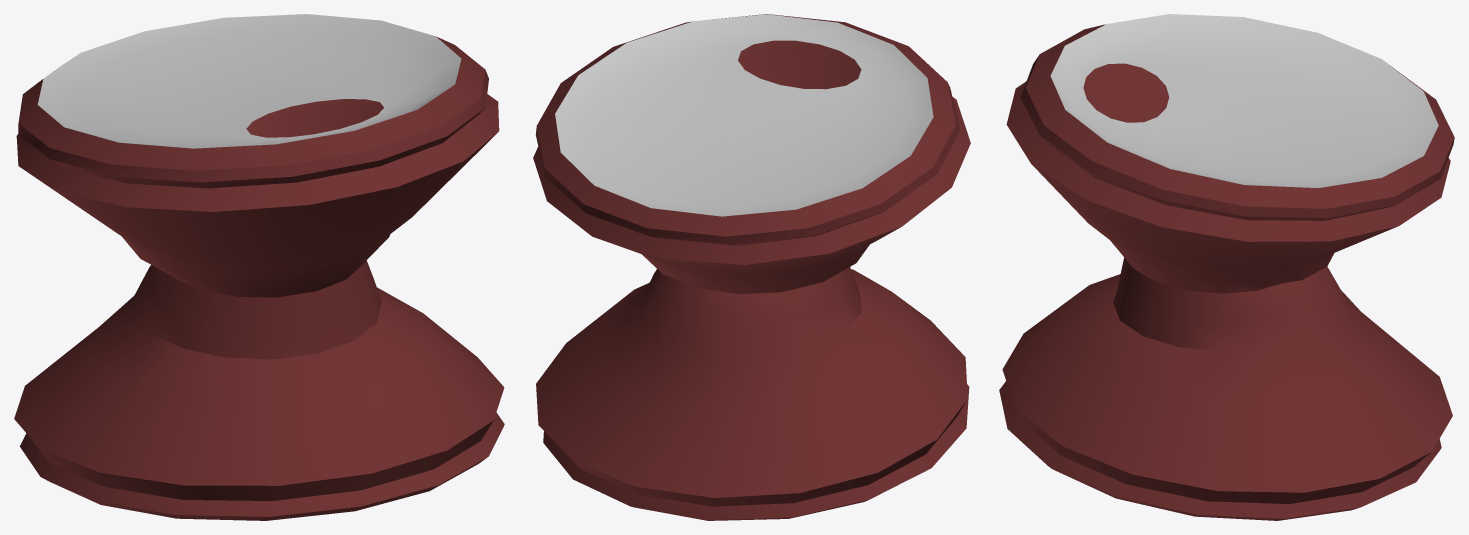
File: LataBebida_03.fbx
3 views of the same model, side by side, from view 1: azimuth 30°, elevation 25°; view 2: azimuth 150°, elevation 25°; view 3: azimuth 270°, elevation 25° (orthographic). The views are drawn at different scales.
Parts seen in each view (by area): view 1: LataBebida_03; view 2: LataBebida_03; view 3: LataBebida_03.
Boxes of the visible parts, x1=… form: LataBebida_03: x1=14, y1=14, x2=504, y2=520; LataBebida_03: x1=533, y1=14, x2=970, y2=520; LataBebida_03: x1=999, y1=14, x2=1454, y2=520.
Bounding box in the file's own units: 27.71 × 24.73 × 27.7.
